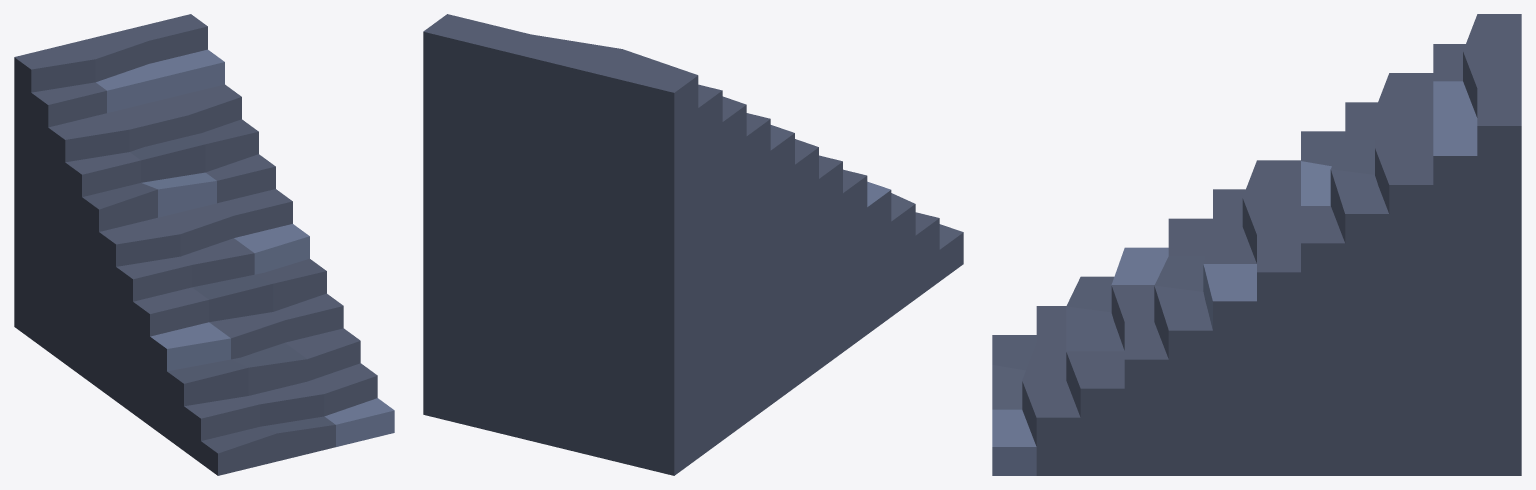
Rendered from escalera 2.fbx.
3 views of the same model, side by side, from view 1: azimuth 30°, elevation 25°; view 2: azimuth 150°, elevation 25°; view 3: azimuth 270°, elevation 25° (orthographic). The views are drawn at different scales.
Parts seen in each view (by area): view 1: stairs.001, stairs.002; view 2: stairs.002, stairs.001; view 3: stairs.002, stairs.001.
Part boxes in pixels (x1=…): stairs.001: x1=99, y1=189, x2=394, y2=475; stairs.002: x1=14, y1=14, x2=275, y2=388; stairs.002: x1=423, y1=14, x2=794, y2=475; stairs.001: x1=795, y1=139, x2=963, y2=387; stairs.002: x1=1301, y1=14, x2=1521, y2=475; stairs.001: x1=992, y1=160, x2=1300, y2=475.
Size of the model in its own units: 211 by 307 by 421.
